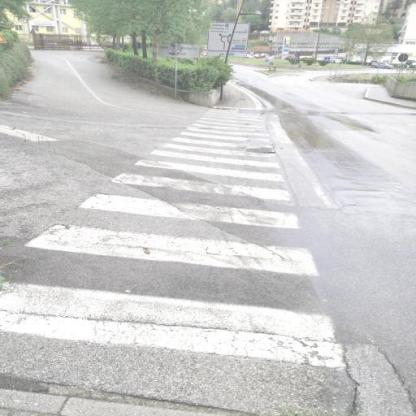crosswalk: (1, 190, 343, 280), (145, 141, 287, 169)
